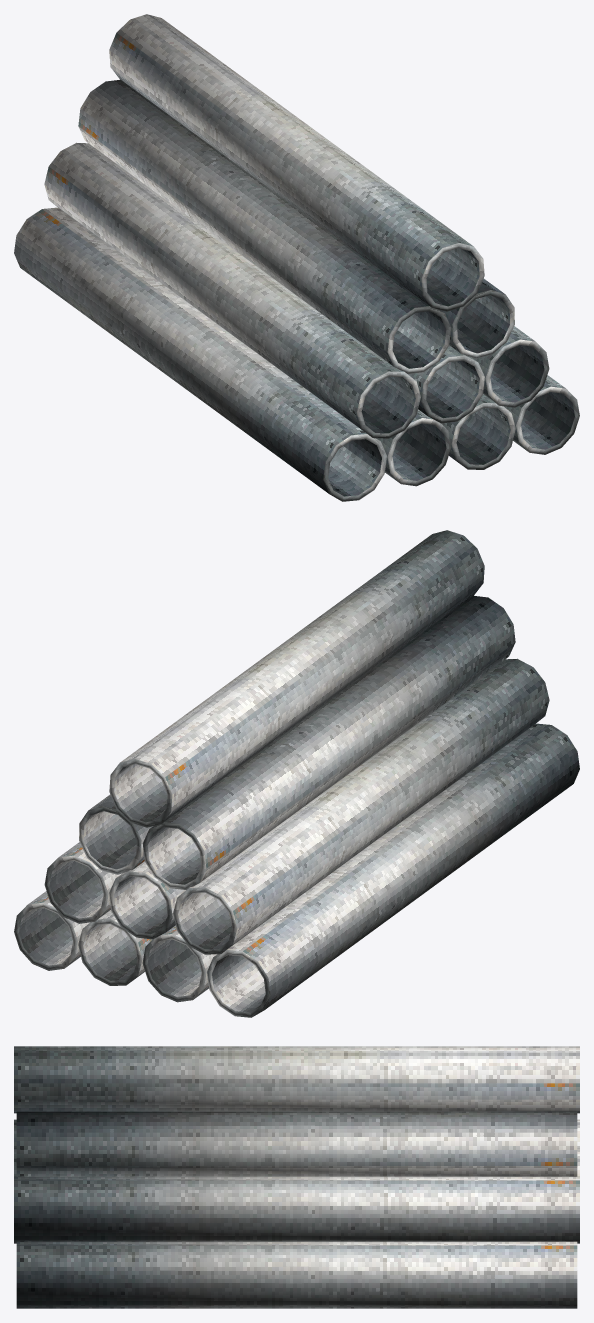
File: metal_pipe_pile.glb
The picture shows the model from 3 angles, top to bottom: view 1: azimuth 30°, elevation 25°; view 2: azimuth 150°, elevation 25°; view 3: azimuth 270°, elevation 25°; orthographic projection. The views are drawn at different scales.
Parts seen in each view (by area): view 1: MetalPipePile; view 2: MetalPipePile; view 3: MetalPipePile.
Boxes of the visible parts, x1,y1,x2,y2 form: MetalPipePile: [14, 14, 579, 501]; MetalPipePile: [14, 530, 579, 1017]; MetalPipePile: [14, 1046, 579, 1308].
Bounding box in the file's own units: 1.2 × 1.05 × 2.53.
Materials: 1 (1 with a texture image).
